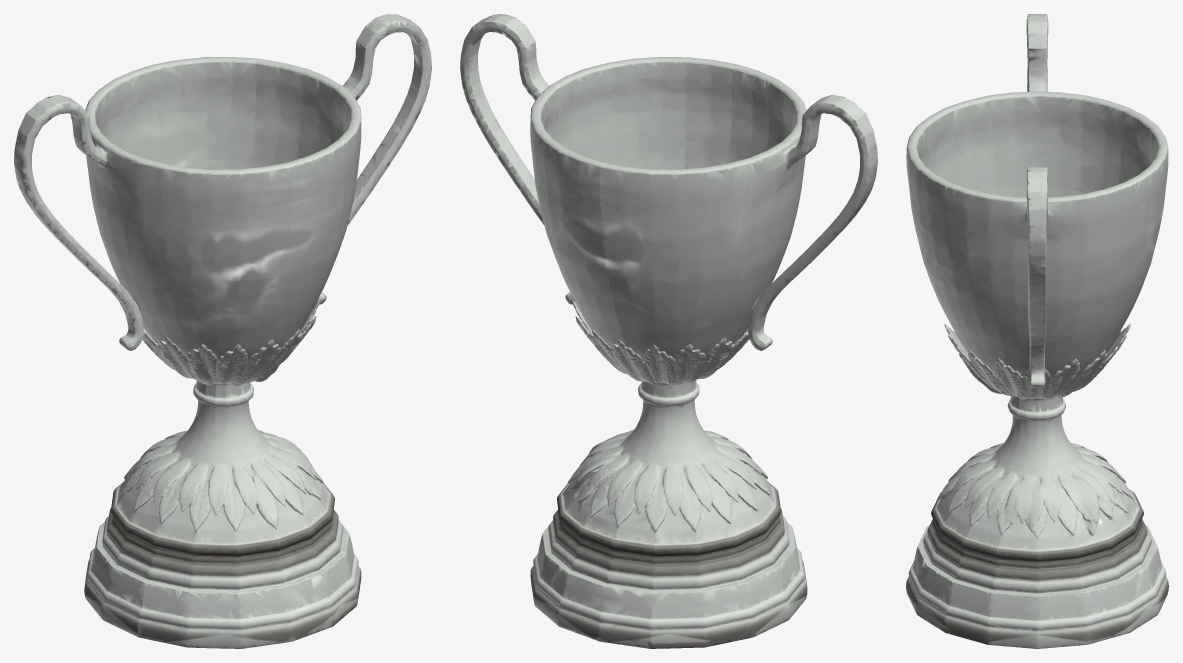
File: mondialU20.glb
The picture shows the model from 3 angles, left to right: view 1: azimuth 30°, elevation 25°; view 2: azimuth 150°, elevation 25°; view 3: azimuth 270°, elevation 25°; orthographic projection. The views are drawn at different scales.
Visible parts, largest first — view 1: mesh_node; view 2: mesh_node; view 3: mesh_node.
Part boxes in pixels (left/top/right/bottom): mesh_node: left=14, top=14, right=431, bottom=648; mesh_node: left=460, top=14, right=877, bottom=648; mesh_node: left=906, top=14, right=1168, bottom=648.
Bounding box in the file's own units: 1.53 × 1.9 × 0.9045.
1 material, 1 textured.
